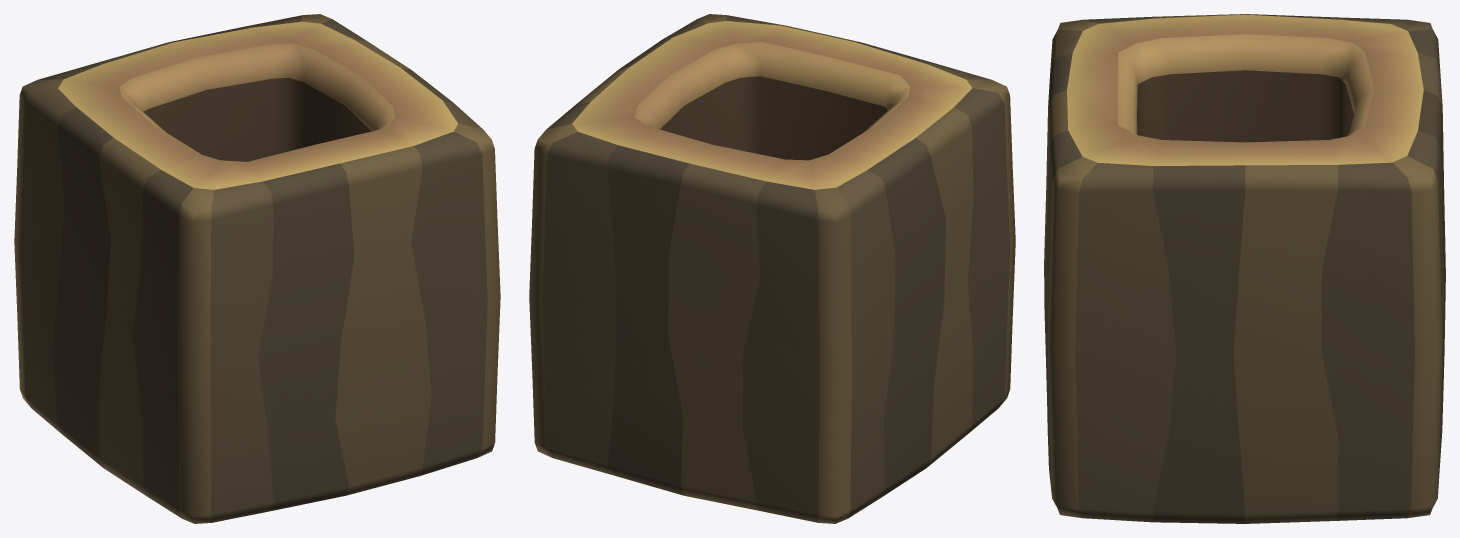
File: log4_LOD_group.fbx
The picture shows the model from 3 angles, left to right: view 1: azimuth 30°, elevation 25°; view 2: azimuth 150°, elevation 25°; view 3: azimuth 270°, elevation 25°; orthographic projection. The views are drawn at different scales.
Visible parts, largest first — view 1: log4_LOD0; view 2: log4_LOD0; view 3: log4_LOD0.
Boxes of the visible parts, left/top/right/bottom form: log4_LOD0: left=14, top=14, right=500, bottom=523; log4_LOD0: left=529, top=14, right=1015, bottom=523; log4_LOD0: left=1044, top=14, right=1445, bottom=523.
Size of what is drawn, in the model's own units: 109 by 108 by 109.
1 material, 1 textured.
